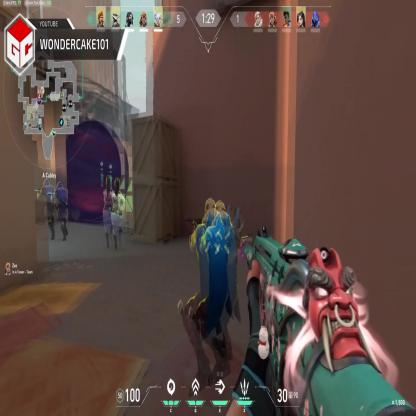enemy: (182, 201, 240, 394), (108, 177, 124, 252), (52, 176, 71, 238)
enemy_head: (208, 201, 224, 228), (114, 179, 121, 196), (56, 182, 62, 192)
